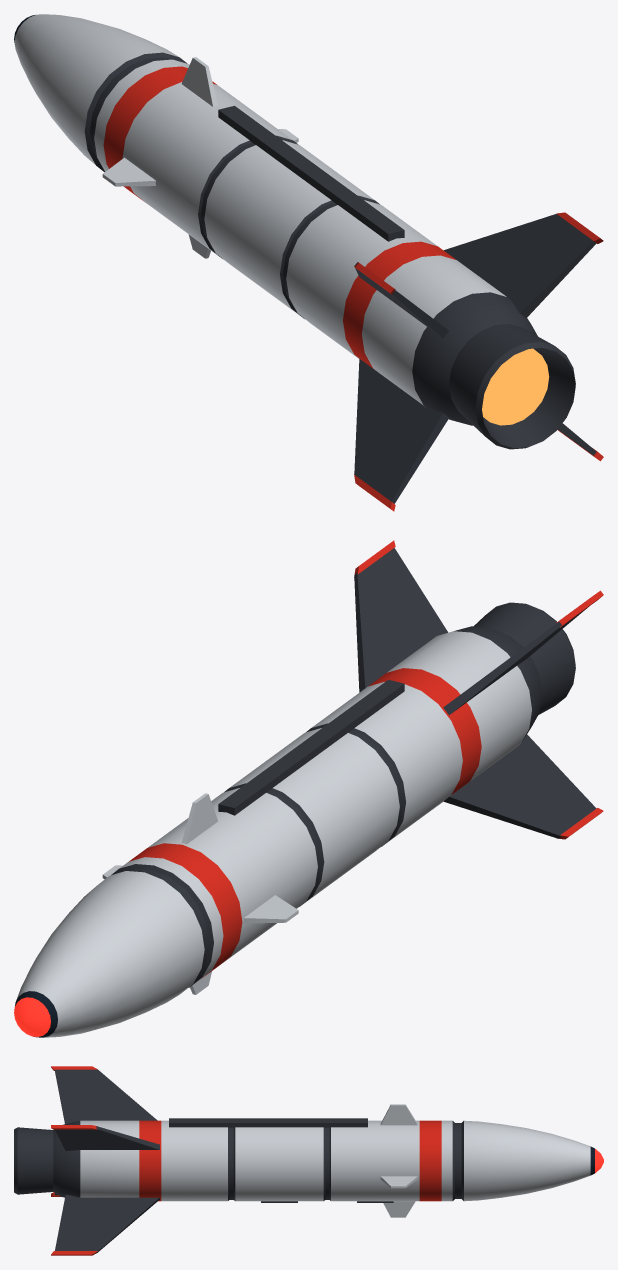
Rendered from missile.glb.
3 renders of one model, top to bottom at view 1: azimuth 30°, elevation 25°; view 2: azimuth 150°, elevation 25°; view 3: azimuth 270°, elevation 25°, orthographic. The views are drawn at different scales.
Visible parts, largest first — view 1: Missile_Body, Missile_Fins, Missile_Engine, Missile_Exhaust; view 2: Missile_Body, Missile_Fins, Missile_Engine; view 3: Missile_Body, Missile_Fins, Missile_Engine.
Part boxes in pixels (x1,y1,x2,y2): Missile_Body: (14, 14, 537, 425); Missile_Fins: (102, 57, 603, 511); Missile_Engine: (449, 324, 575, 449); Missile_Exhaust: (482, 348, 549, 425); Missile_Body: (14, 626, 541, 1037); Missile_Fins: (102, 540, 603, 994); Missile_Engine: (474, 602, 575, 714); Missile_Body: (53, 1118, 603, 1202); Missile_Fins: (51, 1066, 417, 1255); Missile_Engine: (14, 1127, 53, 1194).
Size of the model in its own units: 0.391 by 0.391 by 1.6.
